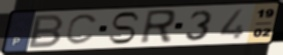3: (184, 9, 214, 42)
4: (218, 8, 247, 40)
B: (26, 13, 66, 49)
C: (63, 12, 101, 46)
R: (138, 8, 179, 45)
S: (106, 11, 142, 46)
